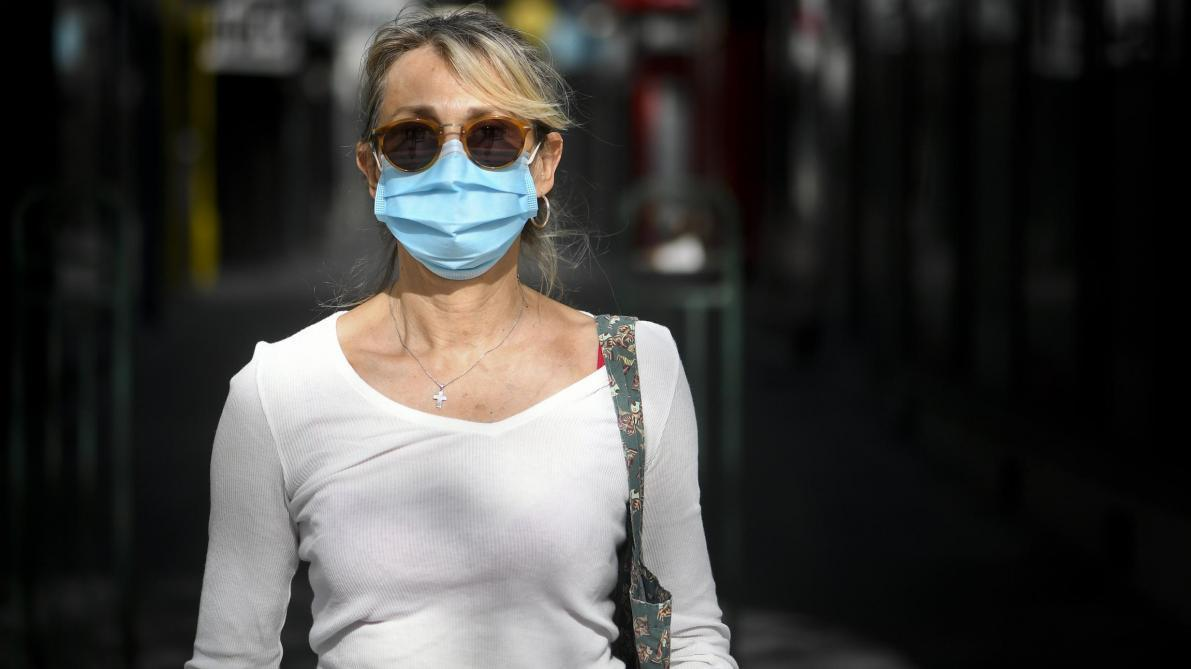with_mask: (373, 94, 541, 286)
